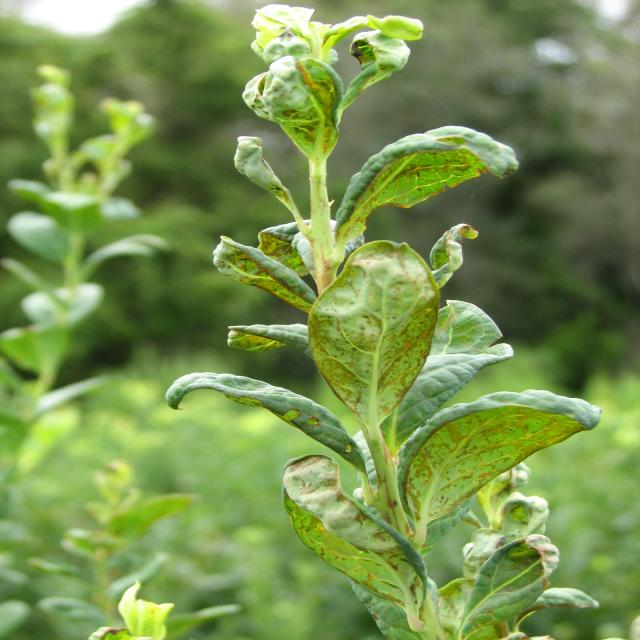Thrip-Group-: (325, 311, 416, 390)
